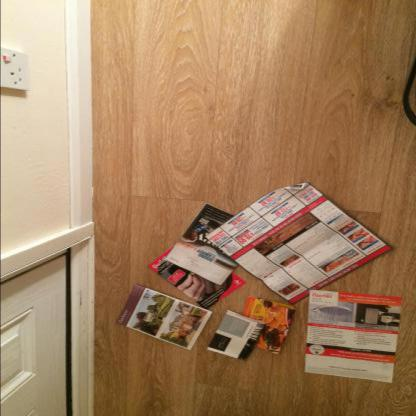Paper: (204, 181, 394, 305), (304, 290, 403, 383), (147, 244, 246, 309), (116, 284, 212, 350), (164, 203, 238, 285), (242, 296, 296, 354), (207, 310, 266, 361)
